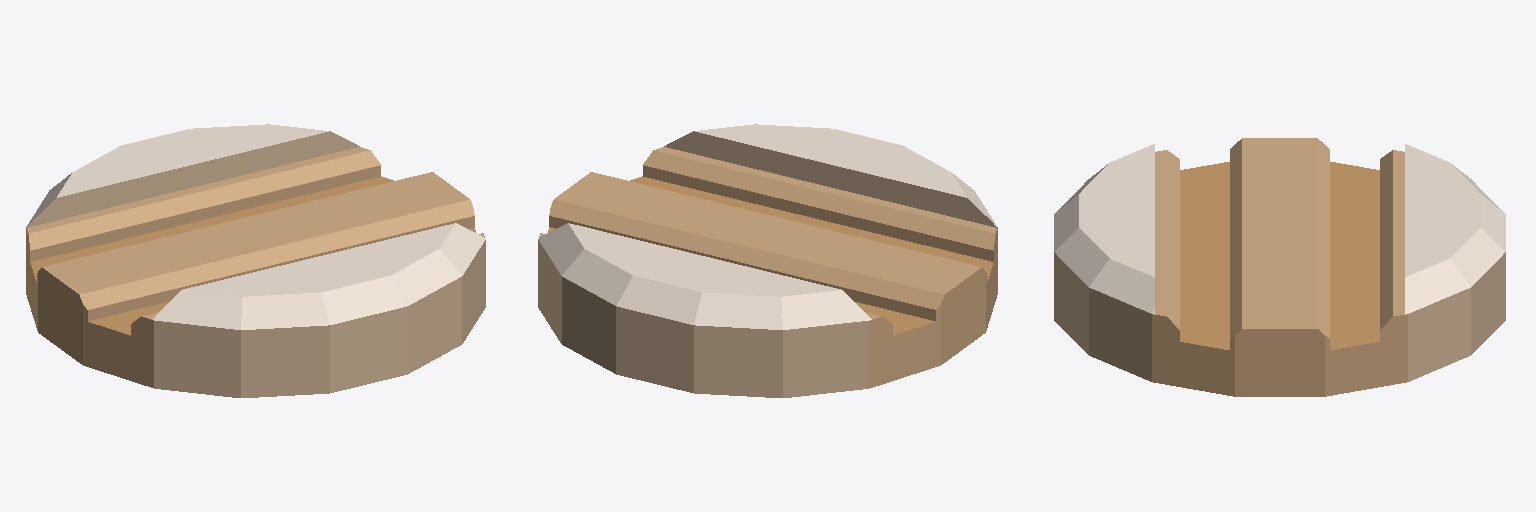
File: Puzzle_Track_Rotating_Platform_Straight.obj
The picture shows the model from 3 angles: view 1: azimuth 30°, elevation 25°; view 2: azimuth 150°, elevation 25°; view 3: azimuth 270°, elevation 25°; orthographic projection.
Parts seen in each view (by area): view 1: object1; view 2: object1; view 3: object1.
Boxes of the visible parts, <box> form: object1: <box>26,124,485,397</box>; object1: <box>538,124,997,397</box>; object1: <box>1054,138,1505,396</box>.
Size of the model in its own units: 0.9 by 0.2 by 0.9.